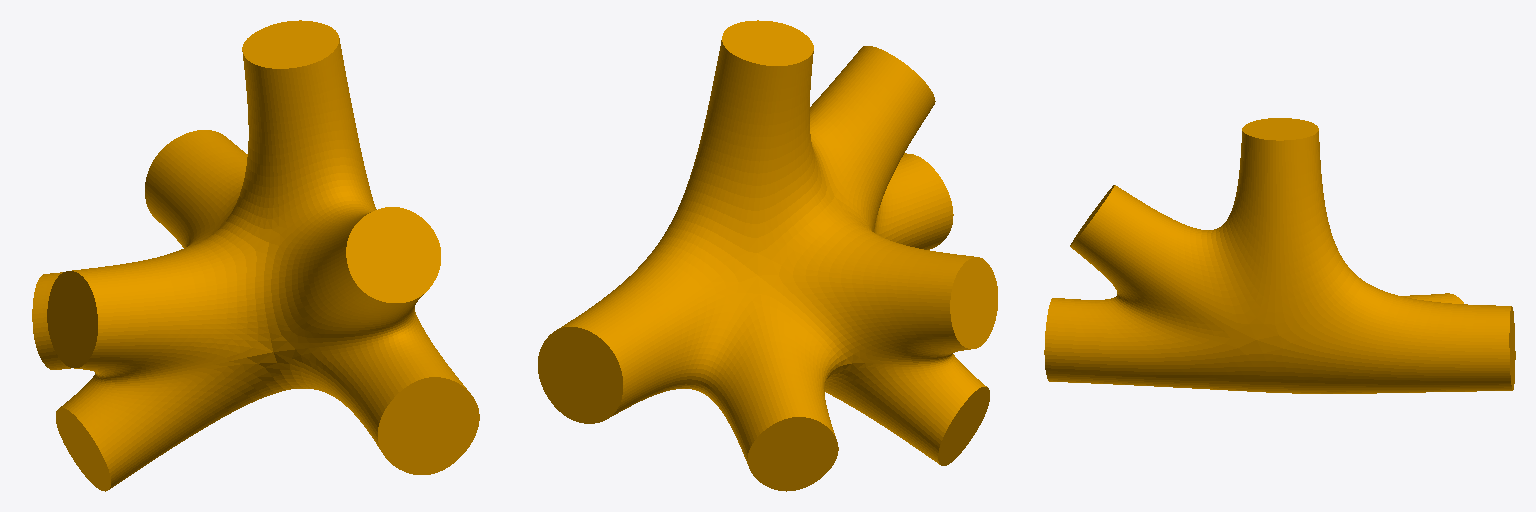
The robot description file, URDF, robot "object":
<robot name="object">
  <link name="object">
    <visual>
      <origin xyz="0 0 0"/>
      <geometry>
        <mesh filename="visual.obj" scale="1 1 1"/>
      </geometry>
    </visual>
    <collision>
      <origin xyz="0 0 0"/>
      <geometry>
        <mesh filename="collision.obj" scale="1 1 1"/>
      </geometry>
    </collision>
    <inertial>
      <mass value="0.05"/>
      <inertia ixx="5.435795041689916e-05" iyy="3.2330712432818154e-05" izz="5.501312829490031e-05" ixy="5.497354652705628e-08" ixz="-4.966899385198311e-06" iyz="5.467043501810374e-06"/>
    </inertial>
  </link>
</robot>

--- Render facts (derived) ---
3 views of the same robot in one strip: view 1: azimuth 30°, elevation 25°; view 2: azimuth 150°, elevation 25°; view 3: azimuth 270°, elevation 25° (orthographic).
Robot: object — 1 links, 0 joints (none); root link object; default pose: every joint at zero.
Visible links, largest first — view 1: object; view 2: object; view 3: object.
Link boxes in pixels (x1,y1,x2,y2): object: (32, 20, 479, 491); object: (538, 20, 997, 491); object: (1044, 118, 1515, 393).
Bounding box of the posed robot: 0.0844 × 0.1363 × 0.1007 m (x, y, z).
1 mesh visuals loaded from 1 distinct referenced files (1 OBJ).
